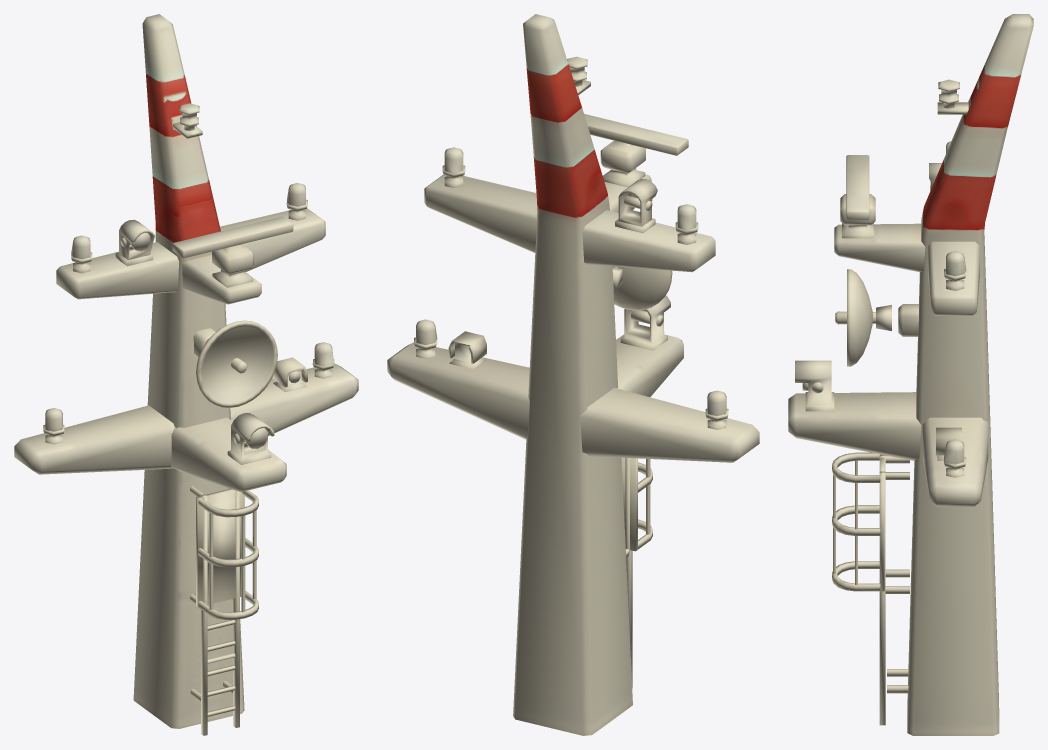
The model's file is cs_ship_mast.glb.
3 views of the same model, side by side, from view 1: azimuth 30°, elevation 25°; view 2: azimuth 150°, elevation 25°; view 3: azimuth 270°, elevation 25° (orthographic). The views are drawn at different scales.
Visible parts, largest first — view 1: cs_ship_mast; view 2: cs_ship_mast; view 3: cs_ship_mast.
Boxes of the visible parts, bbox=[...] form: cs_ship_mast: bbox=[14, 14, 358, 735]; cs_ship_mast: bbox=[387, 14, 759, 735]; cs_ship_mast: bbox=[788, 14, 1033, 735].
Bounding box in the file's own units: 0.5151 × 0.9995 × 0.3179.
Materials: 1 (1 with a texture image).
